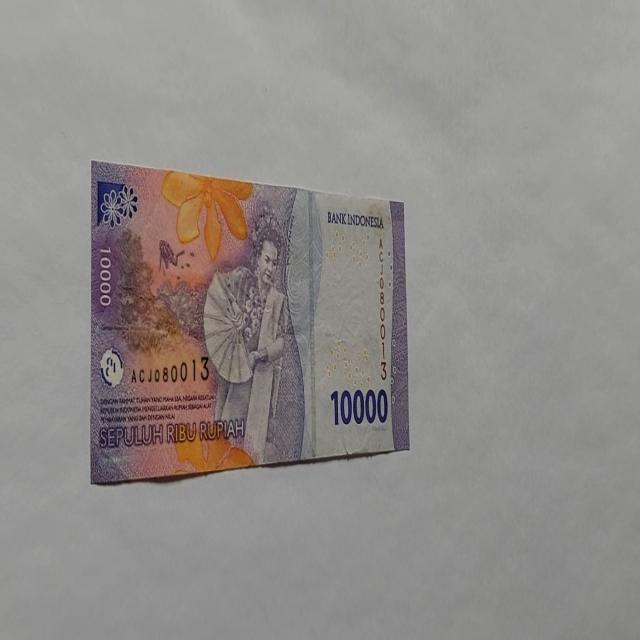sepuluh ribu rupiah: (89, 160, 410, 484)
